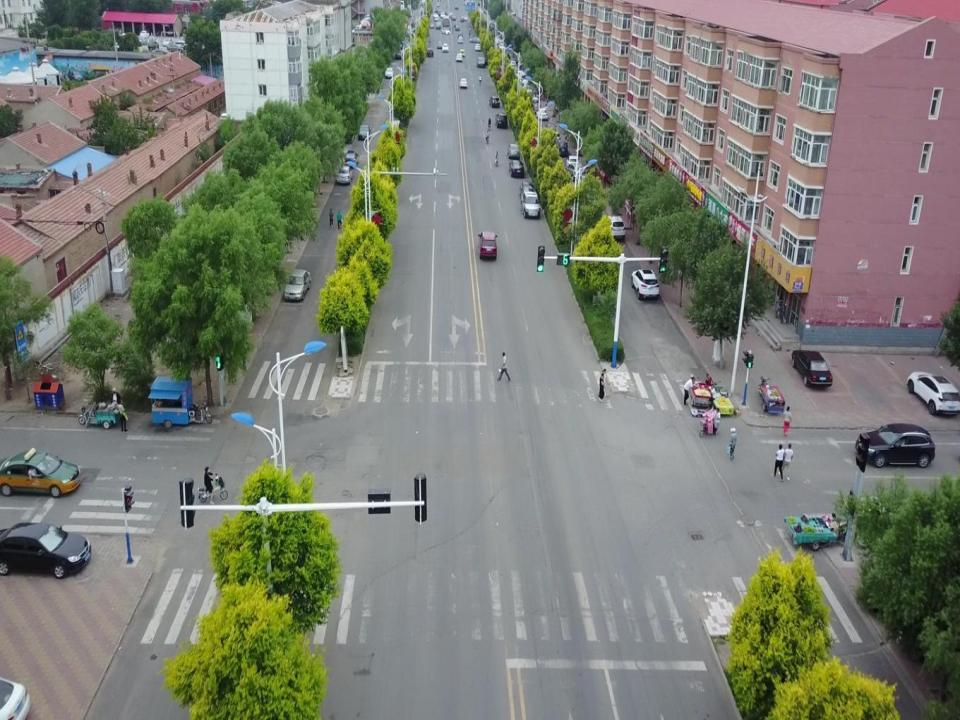car: (0, 524, 92, 586), (0, 445, 89, 497), (856, 422, 938, 468), (906, 369, 960, 415), (790, 346, 832, 387), (283, 262, 311, 304), (630, 268, 664, 300), (518, 186, 542, 222), (476, 228, 500, 262), (340, 144, 364, 166), (604, 216, 626, 236), (566, 162, 587, 182), (516, 178, 536, 198), (333, 164, 352, 185), (508, 157, 526, 179), (357, 122, 374, 142), (505, 141, 521, 159), (565, 154, 580, 172), (486, 93, 501, 107), (458, 74, 469, 92), (556, 138, 568, 152), (550, 130, 560, 146), (474, 55, 486, 68), (545, 122, 556, 136), (536, 106, 548, 118), (384, 65, 394, 77), (426, 47, 434, 57), (458, 48, 466, 56), (474, 43, 482, 51), (456, 53, 463, 61), (442, 42, 448, 51), (437, 41, 443, 48)
